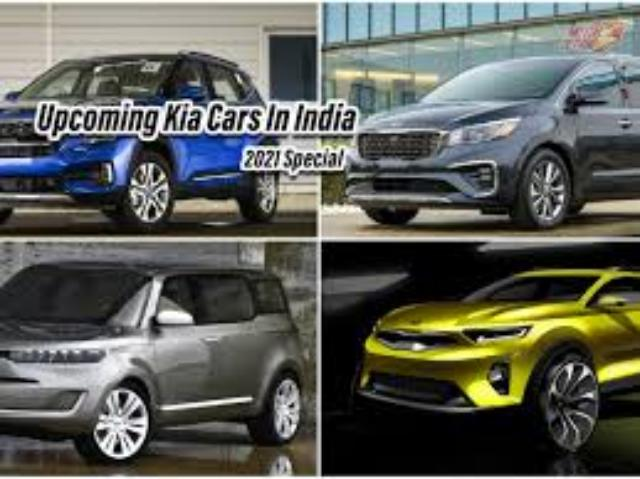kia: (1, 260, 308, 466), (356, 268, 640, 456), (342, 54, 640, 230), (1, 50, 280, 232)
